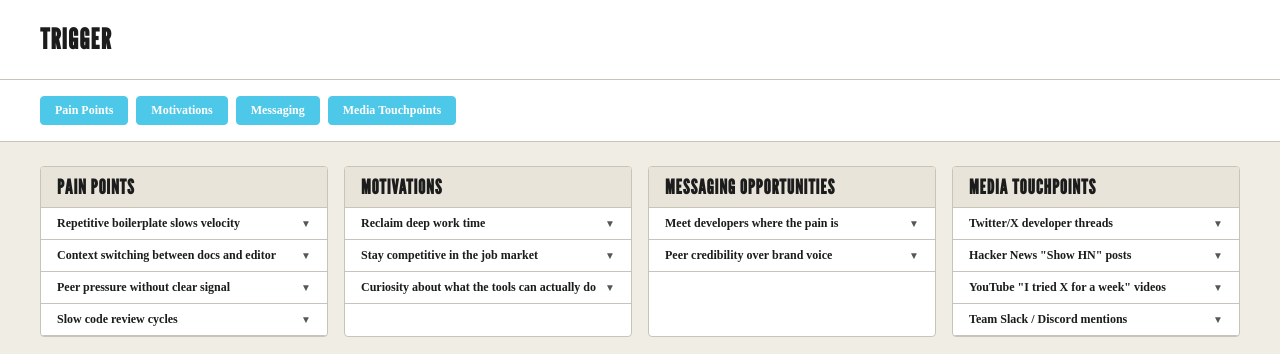
it: StageDetailView › toggling a layer off then on restores it
Click the button "Pain Points". click: (84, 110)
box: [40,96,128,125]
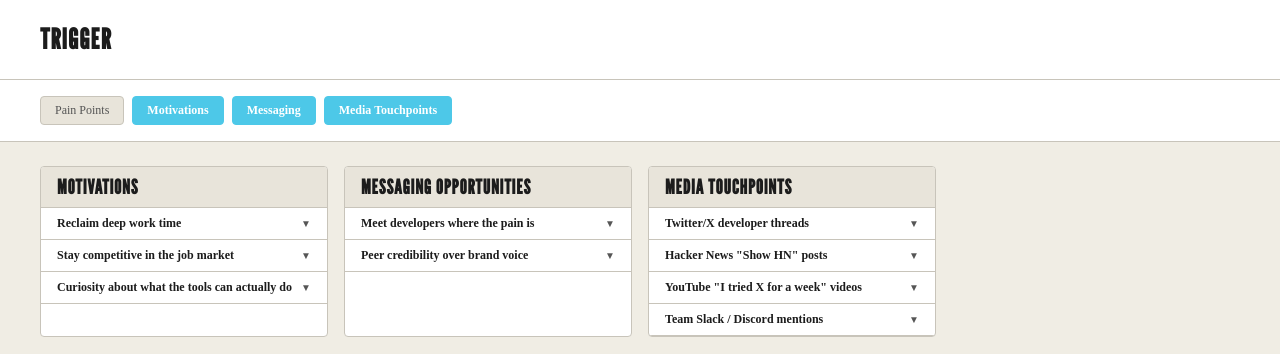
Click the button "Pain Points". click: (82, 110)
box: [40,96,124,125]
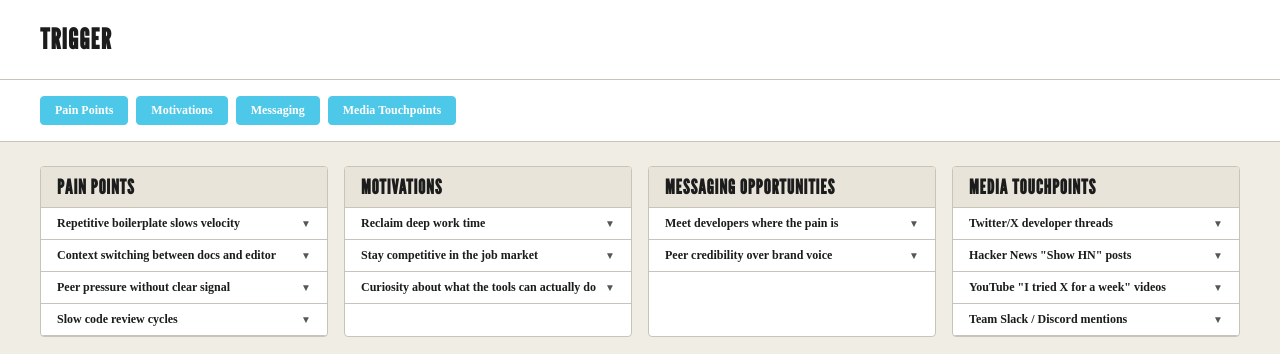
Expected: the element "Pain Points" is shown, [40,166,328,337]
